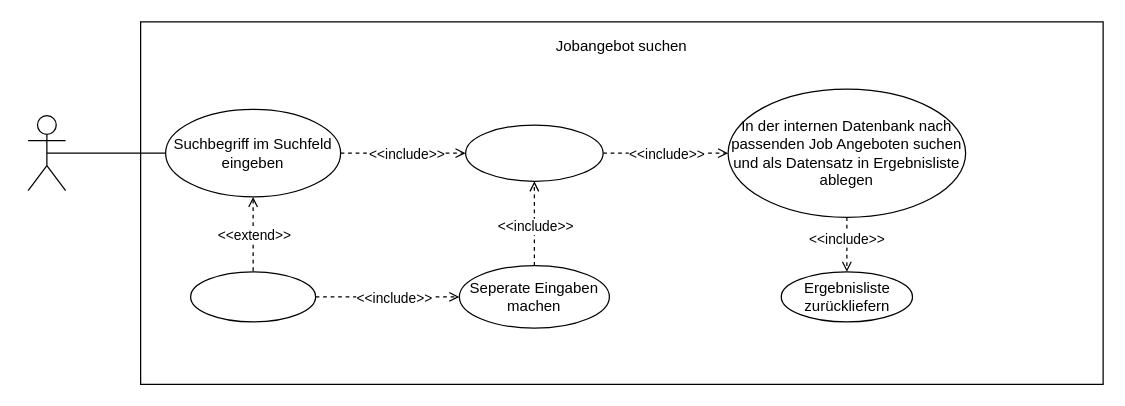
Some shapes in this 1125 by 406 pixel diagram are drawn without their labels. Here are the shapes that lost their labels. From the top down, the centre of each, then its label:
pixel 46 152: Student
pixel 533 152: "Such Button" betätigen
pixel 252 296: Erweiterte Suche
